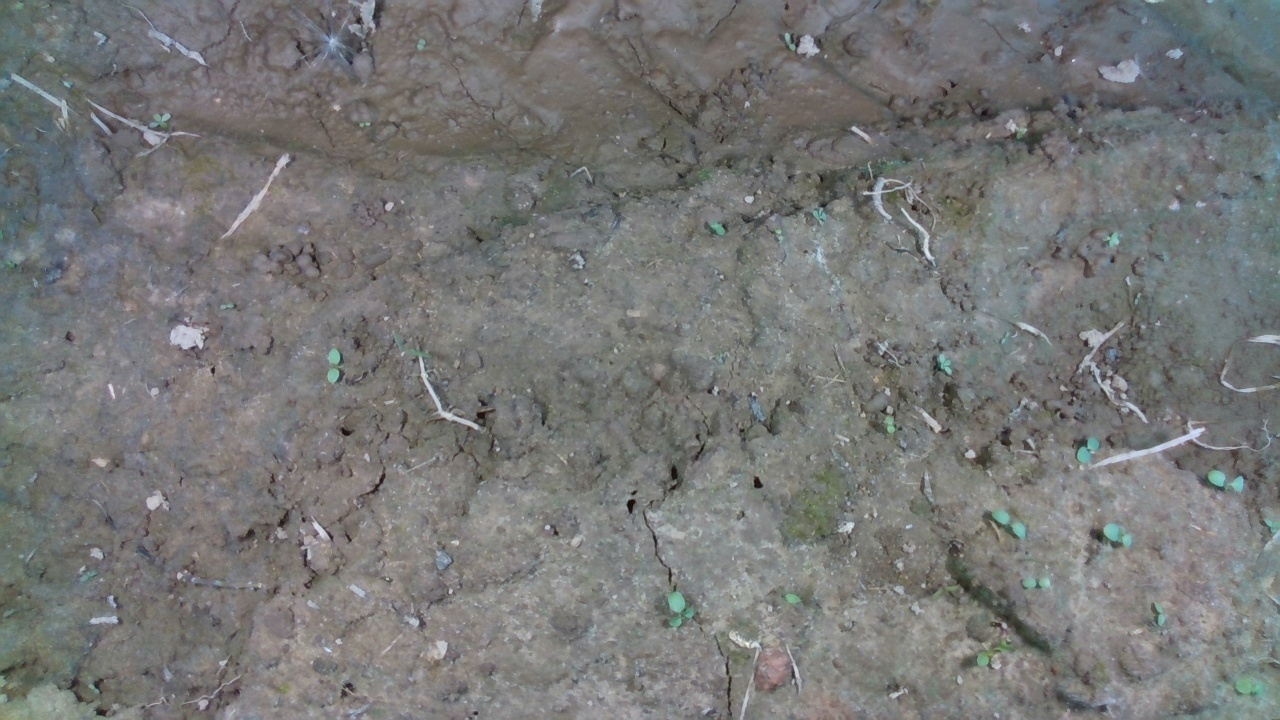weed: (988, 504, 1035, 548), (1198, 464, 1249, 496), (664, 589, 701, 632), (1098, 519, 1144, 551), (1017, 572, 1066, 595), (1072, 435, 1104, 469), (324, 347, 347, 389), (214, 297, 246, 319), (805, 205, 830, 230), (934, 353, 960, 376), (1103, 228, 1124, 250), (882, 411, 901, 435), (702, 216, 728, 233), (771, 226, 794, 243)
